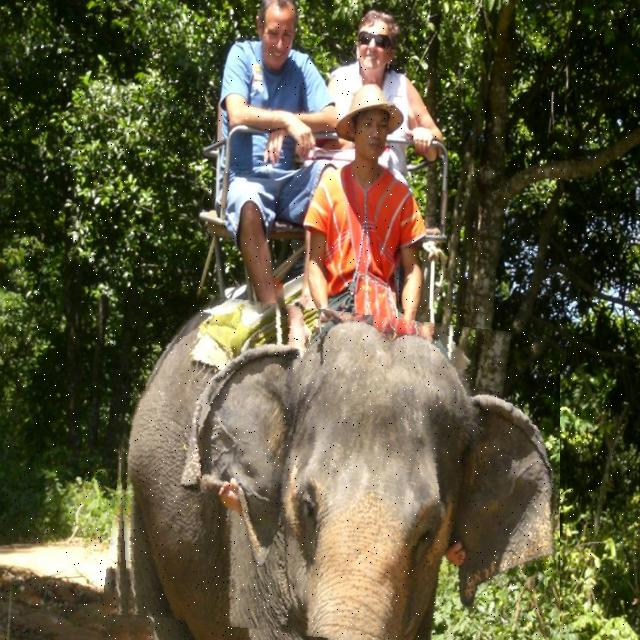elephant: (112, 299, 560, 640)
